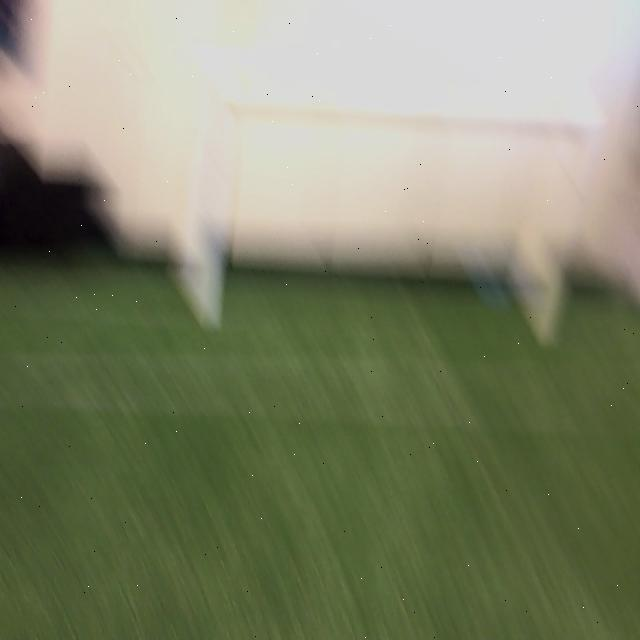goalpost: (538, 121, 598, 345), (194, 100, 228, 326)
